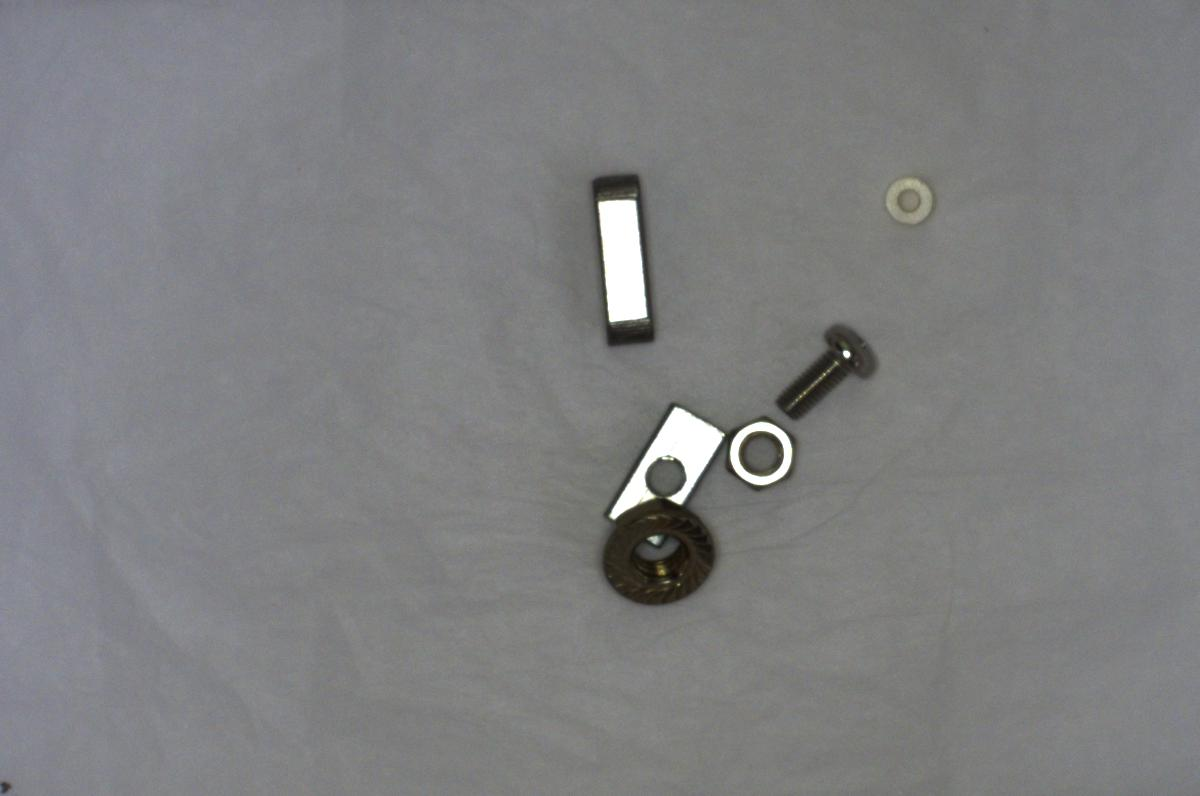Flange nut: (591, 496, 723, 618)
Hexagon nut: (725, 412, 800, 492)
Keybar: (583, 160, 673, 356)
Plastic cushion pillar: (873, 171, 948, 233)
Rectangular nut: (589, 398, 724, 523)
Round head screw: (773, 304, 879, 421)
